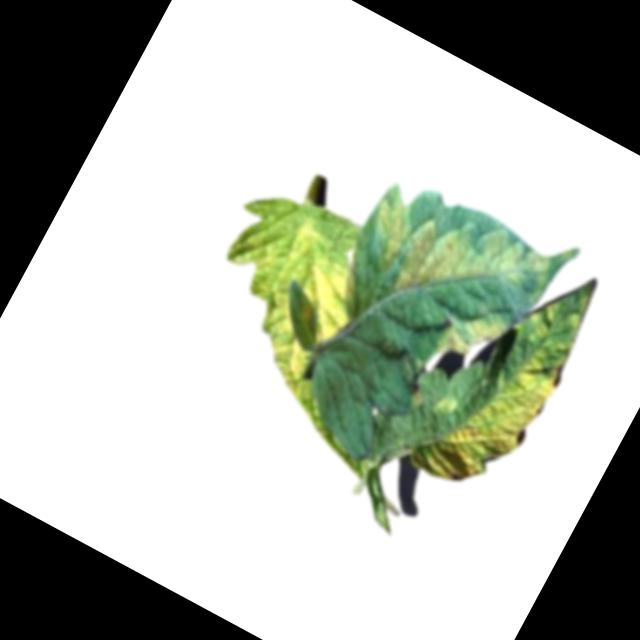Leaf_Mold: (410, 241, 612, 506), (167, 186, 383, 412), (350, 171, 562, 349), (420, 292, 510, 382)
